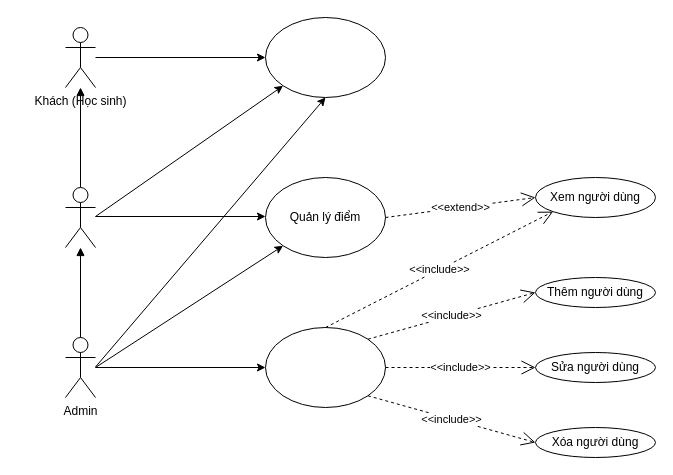
The diagram is 673 pixels wide and 475 high, and some of its shapes have lost their labels. Here are the shapes that lost their labels. From the top down, the centre of each, then its label:
At point 325,57: "Tra cứu điểm".
At point 80,217: "Người dùng (Giáo viên)".
At point 325,367: "Quản lý người dùng".
